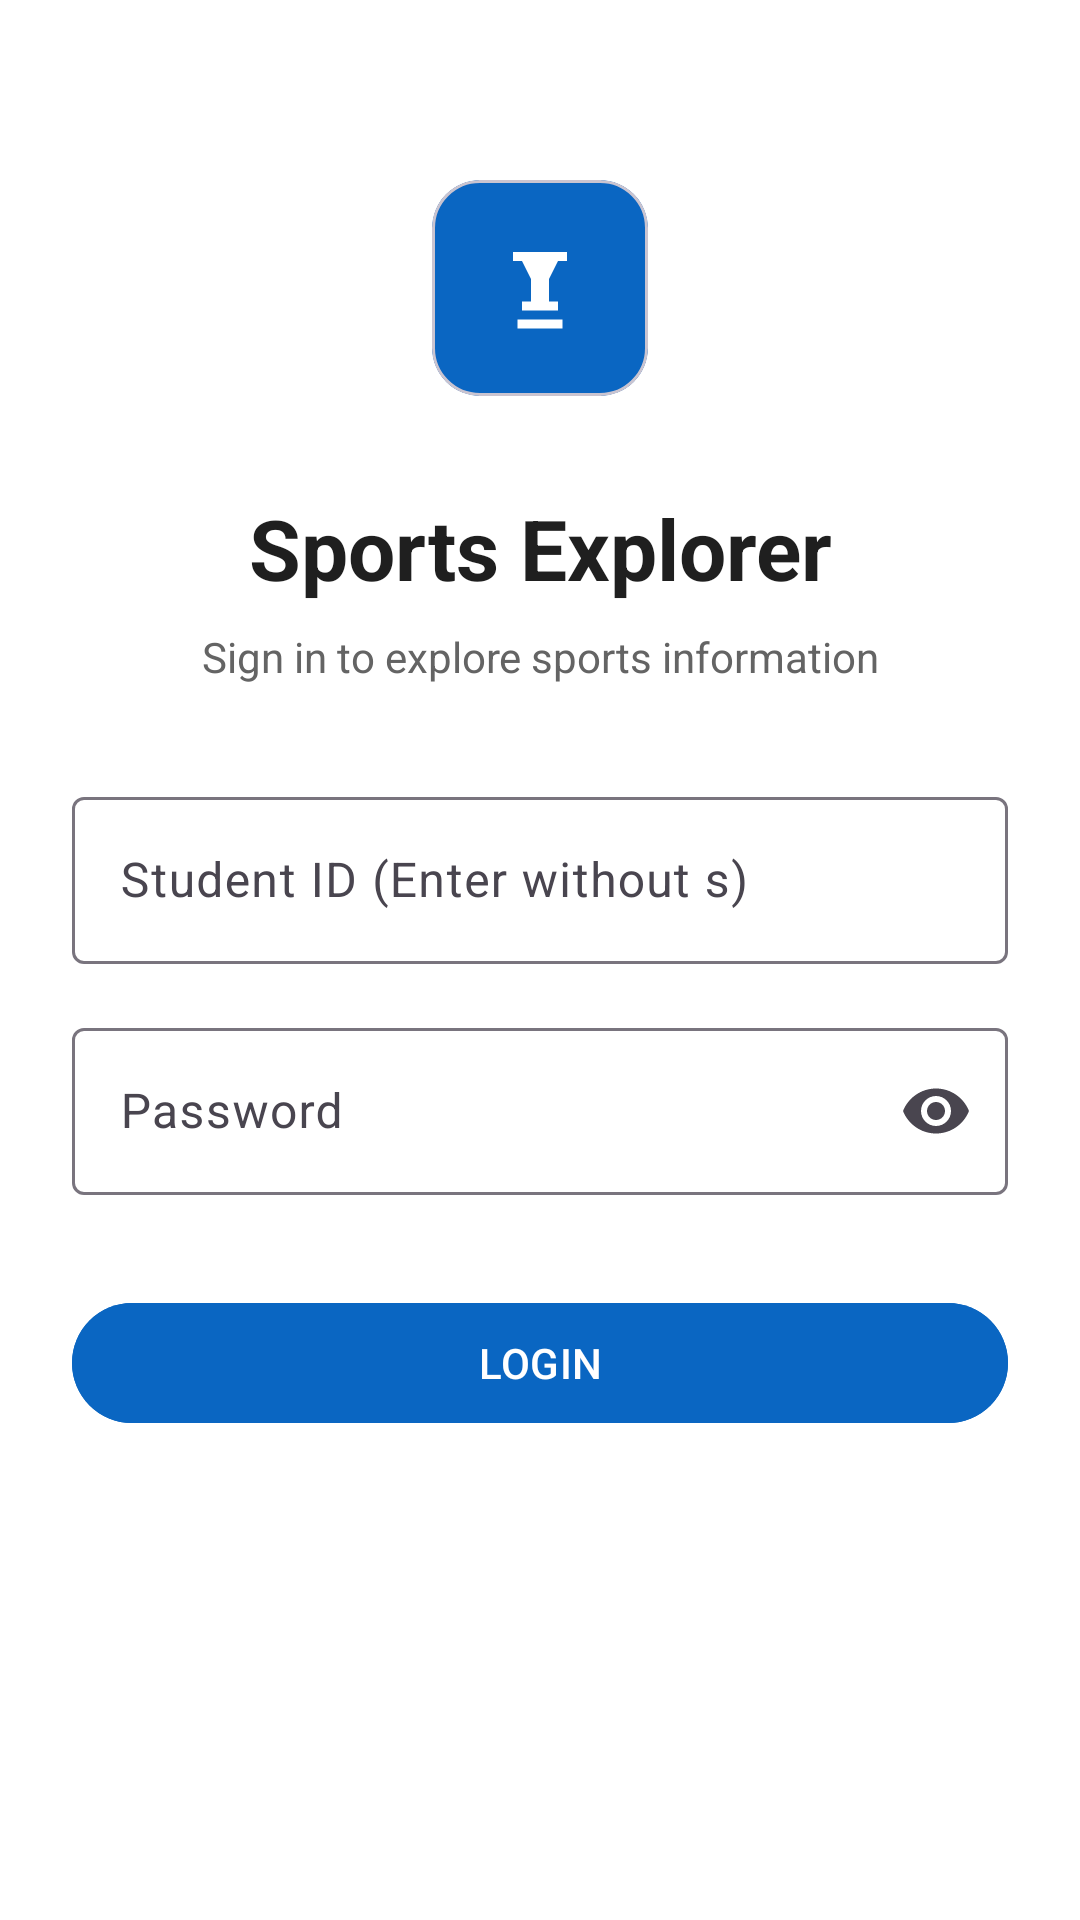

Named icons in this screenshot (1080*1920) and their bounding boxes, (x1, y1, x2, y2):
trophy: (513, 252, 567, 329)
